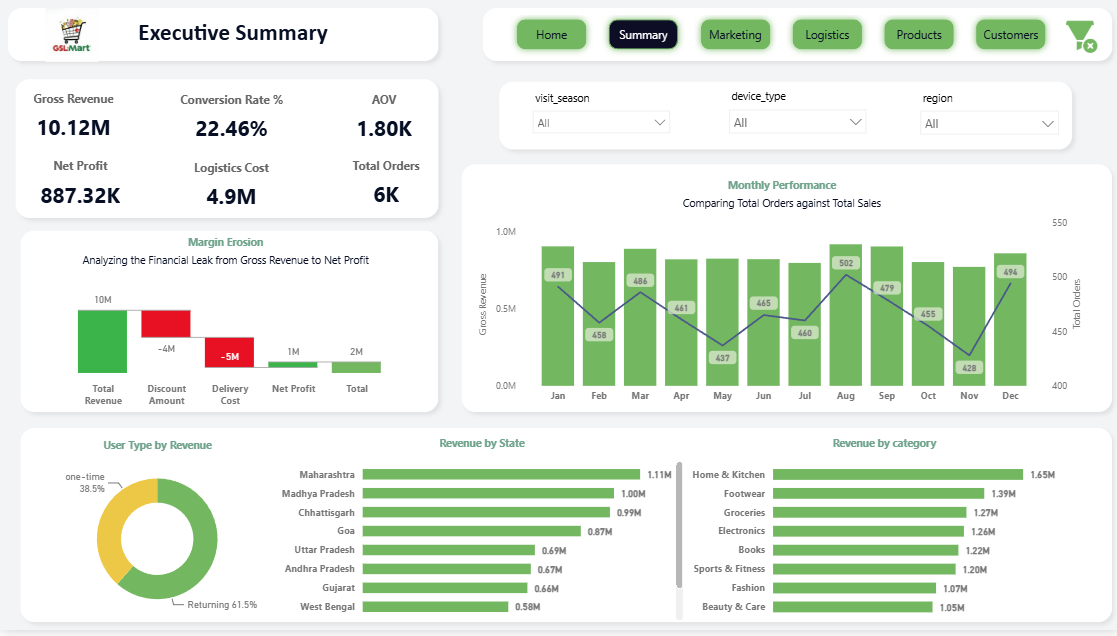

The dashboard page shown, as its layout file describes it:
{"tool":"powerbi","page":{"name":"Summary","canvas":[1280,720],"ordinal":1},"visuals":[{"type":"shape","box":[14.3,480,1265.7,240],"z":0},{"type":"shape","box":[14.3,254.3,495.7,225.7],"z":1000},{"type":"shape","box":[518.6,178.6,761.4,301.4],"z":2000},{"type":"shape","box":[561.4,84.3,672.9,95.7],"z":3000},{"type":"shape","box":[8.3,81.7,501.7,176.7],"z":4000},{"type":"shape","box":[0,0,510,78.8],"z":5000},{"type":"shape","box":[542.5,0,737.5,78.8],"z":6000},{"type":"cardVisual","title":"Gross Revenue","fields":{"Data":["Base measures.Gross Revenue"]},"box":[0,87.8,168.8,90.6],"z":7000},{"type":"cardVisual","title":"Net Profit","fields":{"Data":["Base measures.Net Profit"]},"box":[13.7,163,155.5,92.1],"z":8000},{"type":"cardVisual","title":"Conversion Rate(%)","fields":{"Data":["Funnel & Conversion Measures.Conversion Rate %"]},"box":[175.6,82.3,178.4,101.5],"z":9000},{"type":"cardVisual","title":"AOV","fields":{"Data":["Base measures.Average Order Value"]},"box":[351.9,86.9,176,91.2],"z":10000},{"type":"cardVisual","title":"Logistics Cost","fields":{"Data":["Base measures.Total Logistics Cost"]},"box":[191.7,166.7,146.7,88.3],"z":11000},{"type":"cardVisual","title":"Discount amount","fields":{"Data":["Base measures.Total Orders"]},"box":[364,160,154,98],"z":12000},{"type":"lineStackedColumnComboChart","title":"Monthly Performance","fields":{"Category":["Dim_Calendar.MonthName"],"Y":["Base measures.Gross Revenue"],"Y2":["Base measures.Total Orders"]},"box":[542.9,202.9,701.4,265.7],"z":13000},{"type":"clusteredBarChart","title":"Revenue by State","fields":{"Category":["Dim_Geography.State"],"Y":["Base measures.Gross Revenue"]},"box":[315.7,498.6,470,215.7],"z":14000},{"type":"donutChart","title":"User Type by Revenue","fields":{"Y":["Base measures.Gross Revenue"],"Category":["Dim_Customers.user_type"]},"box":[44.2,499.4,271.2,216],"z":15000},{"type":"clusteredBarChart","title":"Revenue by category","fields":{"Category":["Dim_Products.product_category"],"Y":["Base measures.Gross Revenue"]},"box":[785.7,498.6,450,215.7],"z":16000},{"type":"waterfallChart","title":"Margin Erosion","fields":{"Category":["Waterfall Stages.Stage"],"Y":["Waterfall Stages.Value"]},"box":[44.3,268.6,427.1,204.3],"z":17000},{"type":"slicer","fields":{"Values":["Fact_Sales.visit_season"]},"box":[598.6,98.6,177.1,70],"z":18000},{"type":"slicer","fields":{"Values":["Fact_Sales.device_type"]},"box":[822.5,97.5,177.5,71.2],"z":19000},{"type":"slicer","fields":{"Values":["Dim_Geography.region"]},"box":[1041.4,98.6,178.6,70],"z":20000},{"type":"textbox","box":[121.2,15,290,51.2],"z":21000},{"type":"pageNavigator","box":[582.5,13.8,620,50],"z":22000},{"type":"image","box":[1201.2,16.2,65,50],"z":23000},{"type":"image","box":[8.8,3.8,147.5,71.2],"z":24000}]}

Visuals, with their boxes in screenshot pixels (x1, y1, x2, y2), scaled from the page's 1280x720 canvas onto the 1117x636 screenshot:
shape: {"x1": 12, "y1": 424, "x2": 1116, "y2": 635}
shape: {"x1": 12, "y1": 225, "x2": 445, "y2": 424}
shape: {"x1": 453, "y1": 158, "x2": 1116, "y2": 424}
shape: {"x1": 490, "y1": 74, "x2": 1077, "y2": 159}
shape: {"x1": 7, "y1": 72, "x2": 445, "y2": 228}
shape: {"x1": 0, "y1": 0, "x2": 445, "y2": 70}
shape: {"x1": 473, "y1": 0, "x2": 1116, "y2": 70}
"Gross Revenue" cardVisual: {"x1": 0, "y1": 78, "x2": 147, "y2": 158}
"Net Profit" cardVisual: {"x1": 12, "y1": 144, "x2": 148, "y2": 225}
"Conversion Rate(%)" cardVisual: {"x1": 153, "y1": 73, "x2": 309, "y2": 162}
"AOV" cardVisual: {"x1": 307, "y1": 77, "x2": 461, "y2": 157}
"Logistics Cost" cardVisual: {"x1": 167, "y1": 147, "x2": 295, "y2": 225}
"Discount amount" cardVisual: {"x1": 318, "y1": 141, "x2": 452, "y2": 228}
"Monthly Performance" lineStackedColumnComboChart: {"x1": 474, "y1": 179, "x2": 1086, "y2": 414}
"Revenue by State" clusteredBarChart: {"x1": 275, "y1": 440, "x2": 686, "y2": 631}
"User Type by Revenue" donutChart: {"x1": 39, "y1": 441, "x2": 275, "y2": 632}
"Revenue by category" clusteredBarChart: {"x1": 686, "y1": 440, "x2": 1078, "y2": 631}
"Margin Erosion" waterfallChart: {"x1": 39, "y1": 237, "x2": 411, "y2": 418}
slicer - Fact_Sales.visit_season: {"x1": 522, "y1": 87, "x2": 677, "y2": 149}
slicer - Fact_Sales.device_type: {"x1": 718, "y1": 86, "x2": 873, "y2": 149}
slicer - Dim_Geography.region: {"x1": 909, "y1": 87, "x2": 1065, "y2": 149}
textbox: {"x1": 106, "y1": 13, "x2": 359, "y2": 58}
pageNavigator: {"x1": 508, "y1": 12, "x2": 1049, "y2": 56}
image: {"x1": 1048, "y1": 14, "x2": 1105, "y2": 58}
image: {"x1": 8, "y1": 3, "x2": 136, "y2": 66}
